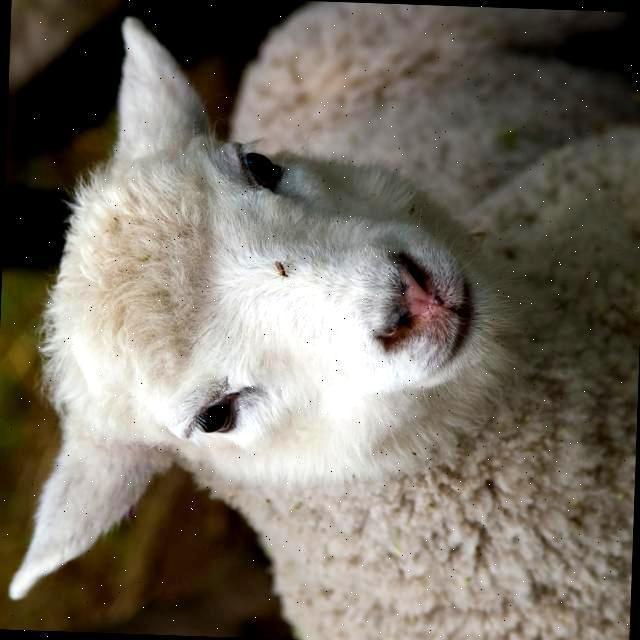sheep: (7, 16, 640, 640)
